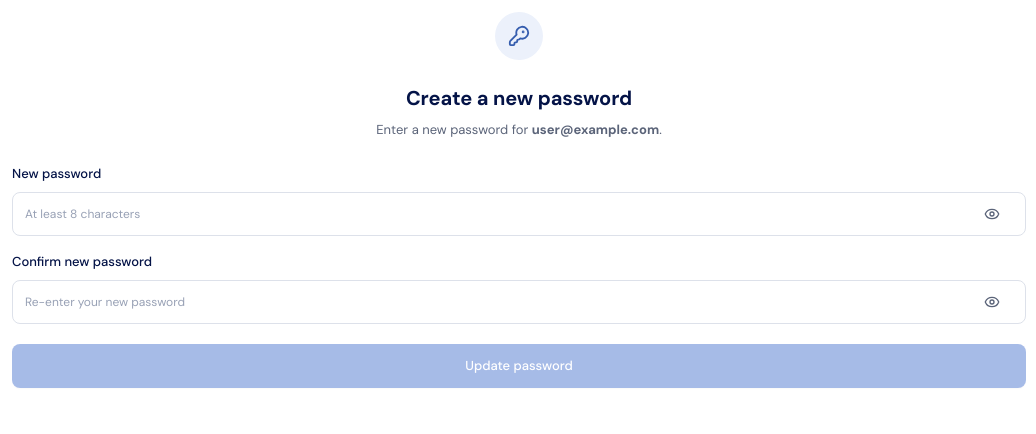
Test: ResetPasswordPage › validates the Firebase action code and resets matching passwords
The image size is (1036, 434).
Check: the text "user@example.com" is shown, box [532, 121, 659, 138]
Type "StrongPass1!" into the password field labelled "New password".
click(519, 214); type("StrongPass1!")  # box [12, 192, 1026, 236]
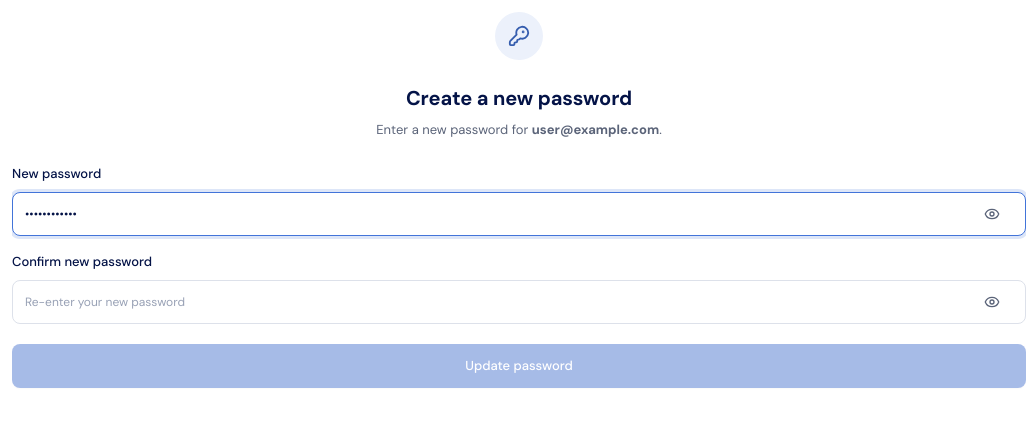
Type "StrongPass1!" into the password field labelled "Confirm new password".
click(519, 302); type("StrongPass1!")  # box [12, 280, 1026, 324]
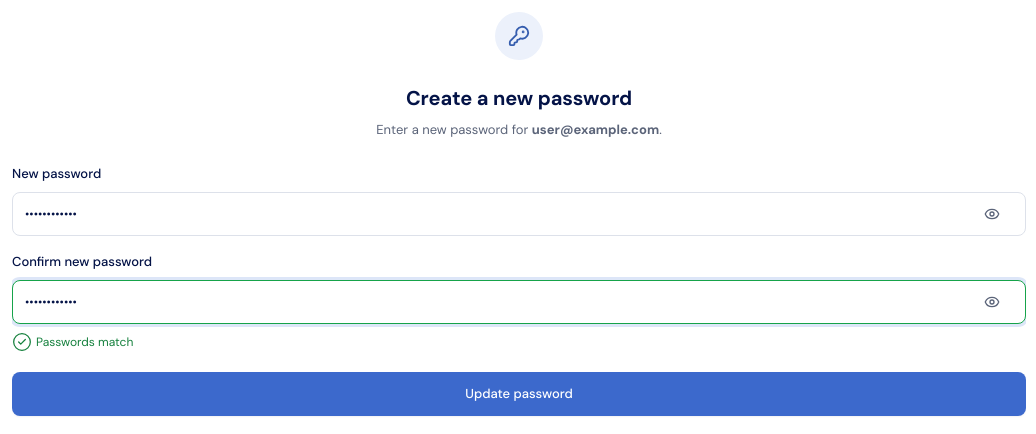
Click the button "Update password".
click(519, 394)  # box [12, 372, 1026, 416]
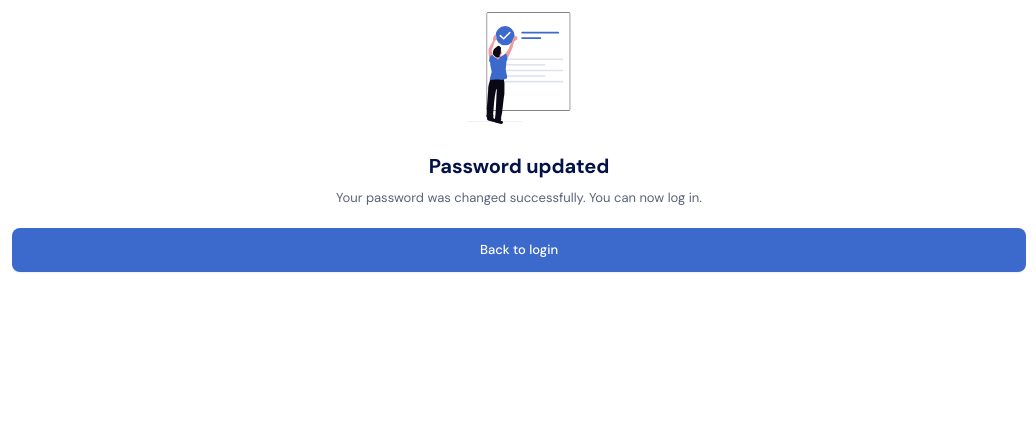
Check: the heading "Password updated" is shown, box [429, 153, 609, 179]
